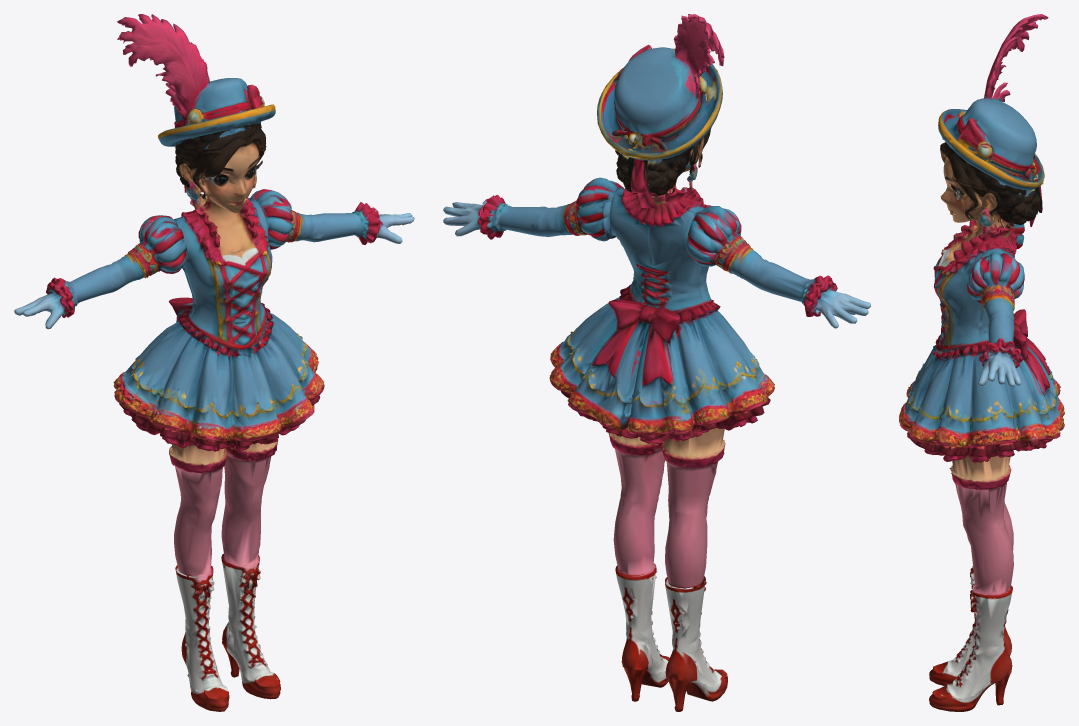
File: chica_disfrazada.glb
3 renders of one model, left to right at view 1: azimuth 30°, elevation 25°; view 2: azimuth 150°, elevation 25°; view 3: azimuth 270°, elevation 25°, orthographic. The views are drawn at different scales.
Visible parts, largest first — view 1: chica_disfrazada; view 2: chica_disfrazada; view 3: chica_disfrazada.
Part boxes in pixels (<box>): chica_disfrazada: <box>14,14,414,711</box>; chica_disfrazada: <box>443,14,870,711</box>; chica_disfrazada: <box>899,14,1064,711</box>.
Size of what is drawn, in the model's own units: 1.02 by 1.65 by 0.3802.
1 material, 1 textured.
